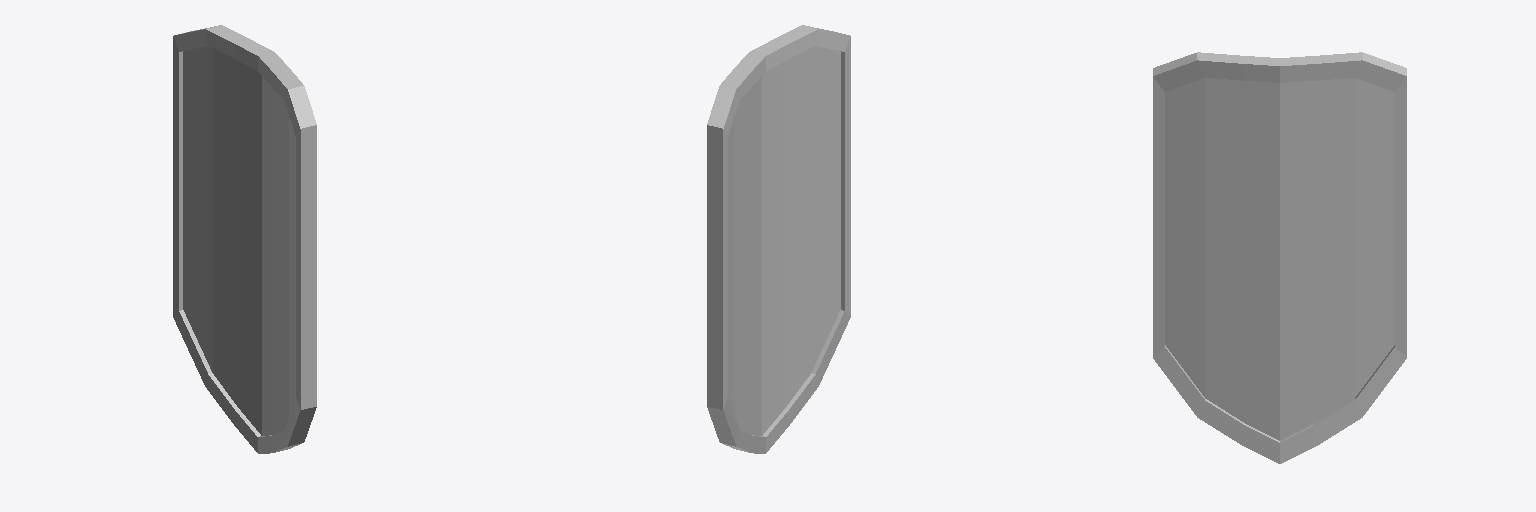
File: Escudo.obj
The picture shows the model from 3 angles: view 1: azimuth 30°, elevation 25°; view 2: azimuth 150°, elevation 25°; view 3: azimuth 270°, elevation 25°; orthographic projection.
Parts seen in each view (by area): view 1: Shield; view 2: Shield; view 3: Shield.
Part boxes in pixels (left/top/right/bottom): Shield: left=173, top=25, right=316, bottom=453; Shield: left=707, top=25, right=850, bottom=453; Shield: left=1153, top=52, right=1406, bottom=463.
Size of the model in its own units: 1.33 by 13.23 by 7.67.